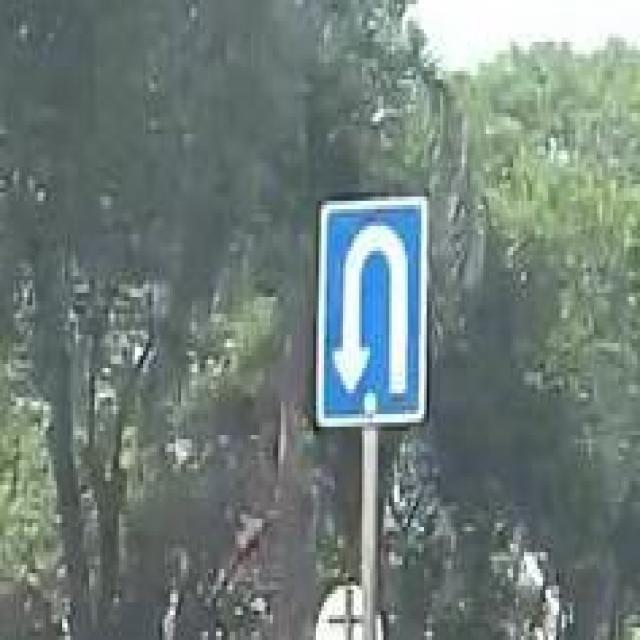U-turn: (321, 202, 426, 426)
